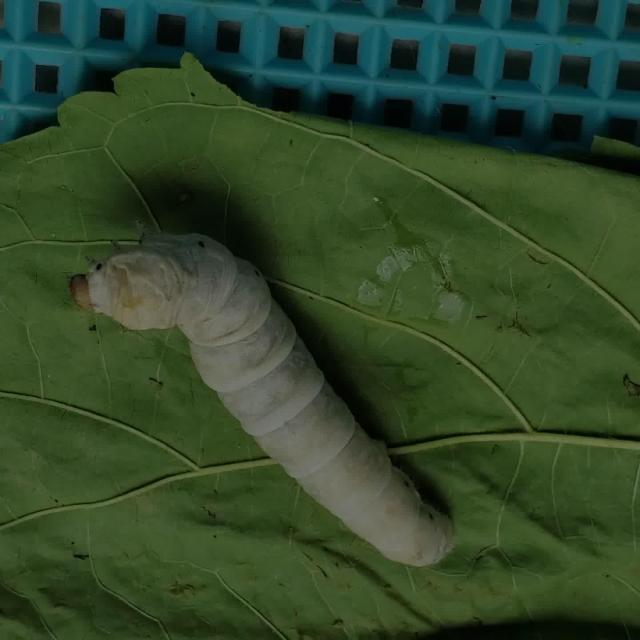Grasserie: (62, 207, 470, 581)
